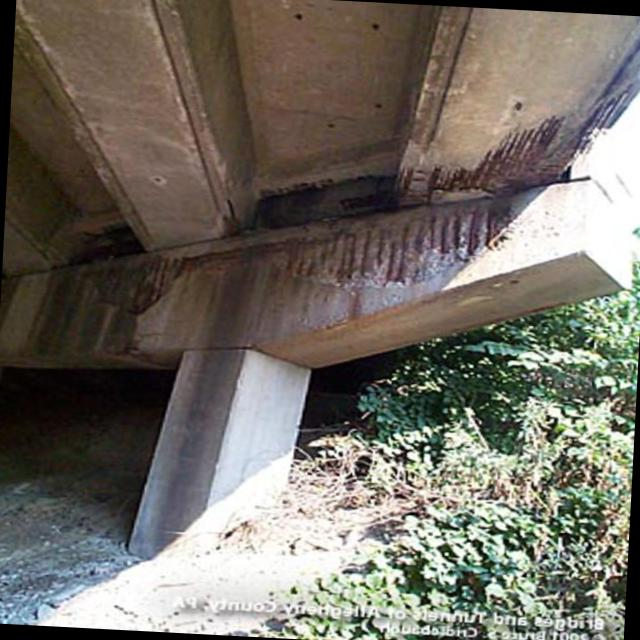spalling: (76, 118, 581, 313)
